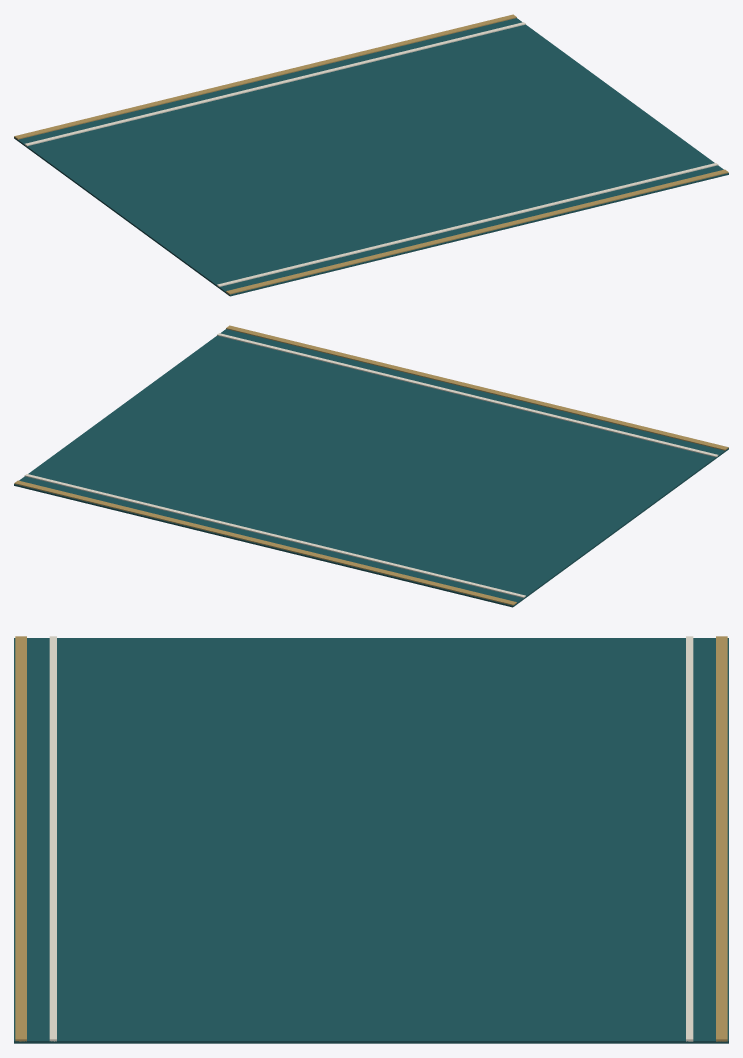
The model's file is VIC_A12_FLOOR_RUNNER_8_Roblox.fbx.
The picture shows the model from 3 angles, top to bottom: view 1: azimuth 30°, elevation 25°; view 2: azimuth 150°, elevation 25°; view 3: azimuth 270°, elevation 25°; orthographic projection. The views are drawn at different scales.
Visible parts, largest first — view 1: VIC_A12_FLOOR_RUNNER_8__Teal, VIC_A12_FLOOR_RUNNER_8__Brass, VIC_A12_FLOOR_RUNNER_8__Ivory; view 2: VIC_A12_FLOOR_RUNNER_8__Teal, VIC_A12_FLOOR_RUNNER_8__Brass, VIC_A12_FLOOR_RUNNER_8__Ivory; view 3: VIC_A12_FLOOR_RUNNER_8__Teal, VIC_A12_FLOOR_RUNNER_8__Brass, VIC_A12_FLOOR_RUNNER_8__Ivory.
Part boxes in pixels (box(x1,y1,x2,y2)): VIC_A12_FLOOR_RUNNER_8__Teal: box(14, 18, 728, 296); VIC_A12_FLOOR_RUNNER_8__Brass: box(14, 14, 728, 294); VIC_A12_FLOOR_RUNNER_8__Ivory: box(24, 22, 718, 286); VIC_A12_FLOOR_RUNNER_8__Teal: box(14, 329, 728, 607); VIC_A12_FLOOR_RUNNER_8__Brass: box(14, 325, 728, 605); VIC_A12_FLOOR_RUNNER_8__Ivory: box(24, 333, 718, 597); VIC_A12_FLOOR_RUNNER_8__Teal: box(14, 638, 728, 1043); VIC_A12_FLOOR_RUNNER_8__Brass: box(15, 636, 727, 1041); VIC_A12_FLOOR_RUNNER_8__Ivory: box(49, 636, 693, 1041).
Bounding box in the file's own units: 8 × 0.038 × 6.
